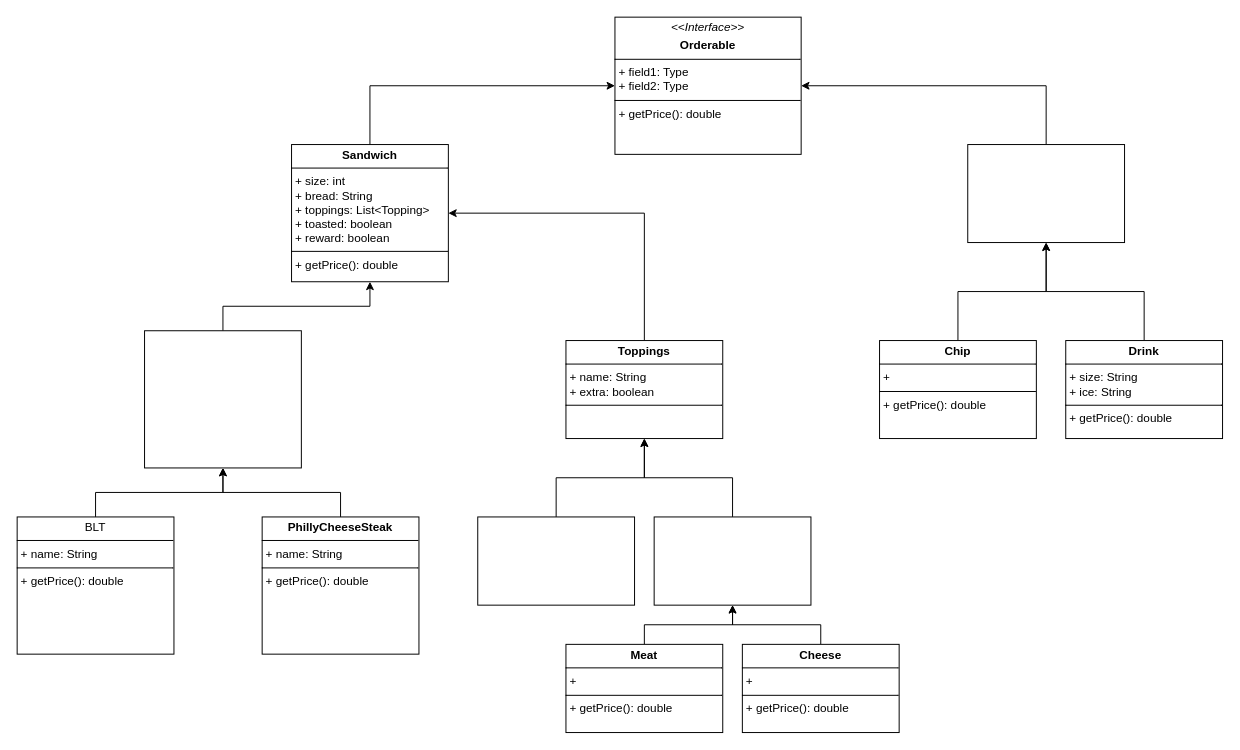
This 1240x750 diagram has some shape labels left out. The centre of each missing label's shape, as x and y in pixels:
ExtraProduct + name: String + price: double + getPrice(): double: (x=1046, y=193)
PremiumToppings + price: basePrice + getPrice(): double: (x=732, y=560)
RegularToppings +: (x=556, y=560)
Signature Sandwich + name: String + getPrice(): double: (x=222, y=399)
